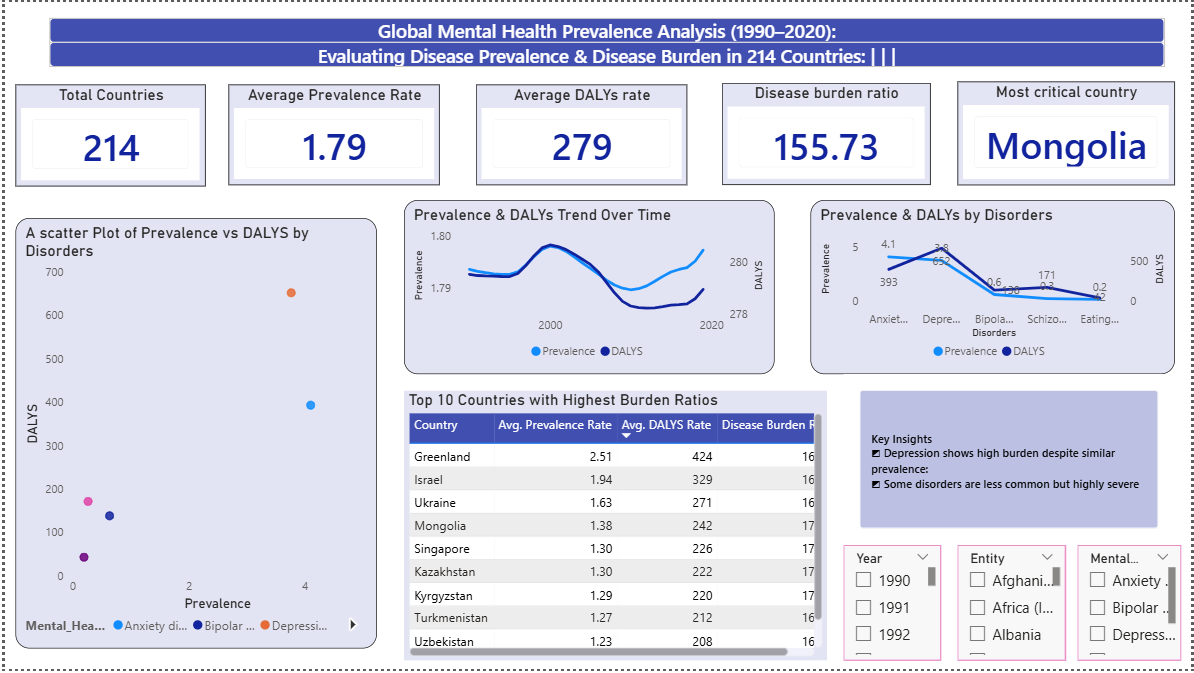

This screenshot's page, from the dashboard's own definition file:
{"tool":"powerbi","page":{"name":"Comparative Measures","canvas":[1280,720],"ordinal":2},"visuals":[{"type":"scatterChart","title":"A scatter Plot of Prevalence vs DALYS by Disorders","fields":{"Y":["Measures Table.m_Average DALYS rate"],"X":["Measures Table.m_AVerage Prevalence Rate"],"Series":["DIM_DISORDERS.Mental_Health_Disorders"]},"box":[11.3,233.2,390.2,464.7],"z":0},{"type":"lineChart","title":"Prevalence & DALYs by Disorders","fields":{"Category":["DIM_DISORDERS.Mental_Health_Disorders"],"Y":["Measures Table.m_AVerage Prevalence Rate"],"Y2":["Measures Table.m_Average DALYS rate"]},"box":[869.5,213.7,393.5,187.8],"z":1000},{"type":"cardVisual","title":"Disease burden ratio","fields":{"Data":["Measures Table.m_Disease burden ratio"]},"box":[774,87.4,225.1,110.1],"z":2000},{"type":"tableEx","title":"Top 10 Countries with Highest Burden Ratios","fields":{"Values":["DIM_COUNTRIES.Entity","Measures Table.m_AVerage Prevalence Rate","Measures Table.m_Average DALYS rate","Measures Table.m_Disease burden ratio"]},"box":[430.7,419.4,456.6,291.5],"z":3000},{"type":"cardVisual","title":"Average Prevalence Rate","fields":{"Data":["Measures Table.m_AVerage Disorder Rate"]},"box":[241.3,89.1,228.3,108.5],"z":4000},{"type":"cardVisual","title":"Average DALYs rate","fields":{"Data":["Measures Table.m_Average DALYS rate"]},"box":[508.4,89.1,228.3,108.5],"z":5000},{"type":"slicer","fields":{"Values":["DIM_COUNTRIES.Entity"]},"box":[1028.2,586.2,116.6,124.7],"z":6000},{"type":"slicer","fields":{"Values":["DIM_YEAR.Year"]},"box":[905.1,586.2,105.2,124.7],"z":7000},{"type":"slicer","fields":{"Values":["DIM_DISORDERS.Mental_Health_Disorders"]},"box":[1157.7,586.2,111.7,124.7],"z":8000},{"type":"cardVisual","fields":{"Data":["Measures Table.dt_Main Title","Measures Table.dt_sMain Comp"]},"box":[30.8,0,1238.7,87.4],"z":9000},{"type":"lineChart","title":"Prevalence & DALYs Trend Over Time","fields":{"Y":["Measures Table.m_AVerage Prevalence Rate"],"Category":["DIM_YEAR.Year"],"Y2":["Measures Table.m_Average DALYS rate"]},"box":[430.7,213.7,399.9,187.8],"z":10000},{"type":"cardVisual","title":"Most critical country","fields":{"Data":["Measures Table.m_Most Critical country"]},"box":[1028.2,85.8,234.8,111.7],"z":11000},{"type":"cardVisual","title":"Total Countries","fields":{"Data":["Measures Table.m_Total Entities"]},"box":[11.3,89.1,205.6,110.1],"z":12000},{"type":"cardVisual","fields":{"Data":["Measures Table.m_Insights Comp"]},"box":[905.1,401.6,357.8,184.6],"z":13000}]}

Visuals, with their boxes in screenshot pixels (x1, y1, x2, y2), scaled from the page's 1280x720 canvas onto the 1194x673 screenshot:
"A scatter Plot of Prevalence vs DALYS by Disorders" scatterChart: Rect(11, 218, 375, 652)
"Prevalence & DALYs by Disorders" lineChart: Rect(811, 200, 1178, 375)
"Disease burden ratio" cardVisual: Rect(722, 82, 932, 185)
"Top 10 Countries with Highest Burden Ratios" tableEx: Rect(402, 392, 828, 664)
"Average Prevalence Rate" cardVisual: Rect(225, 83, 438, 185)
"Average DALYs rate" cardVisual: Rect(474, 83, 687, 185)
slicer - DIM_COUNTRIES.Entity: Rect(959, 548, 1068, 664)
slicer - DIM_YEAR.Year: Rect(844, 548, 942, 664)
slicer - DIM_DISORDERS.Mental_Health_Disorders: Rect(1080, 548, 1184, 664)
cardVisual - Measures Table.dt_Main Title x Measures Table.dt_sMain Comp: Rect(29, 0, 1184, 82)
"Prevalence & DALYs Trend Over Time" lineChart: Rect(402, 200, 775, 375)
"Most critical country" cardVisual: Rect(959, 80, 1178, 185)
"Total Countries" cardVisual: Rect(11, 83, 202, 186)
cardVisual - Measures Table.m_Insights Comp: Rect(844, 375, 1178, 548)
